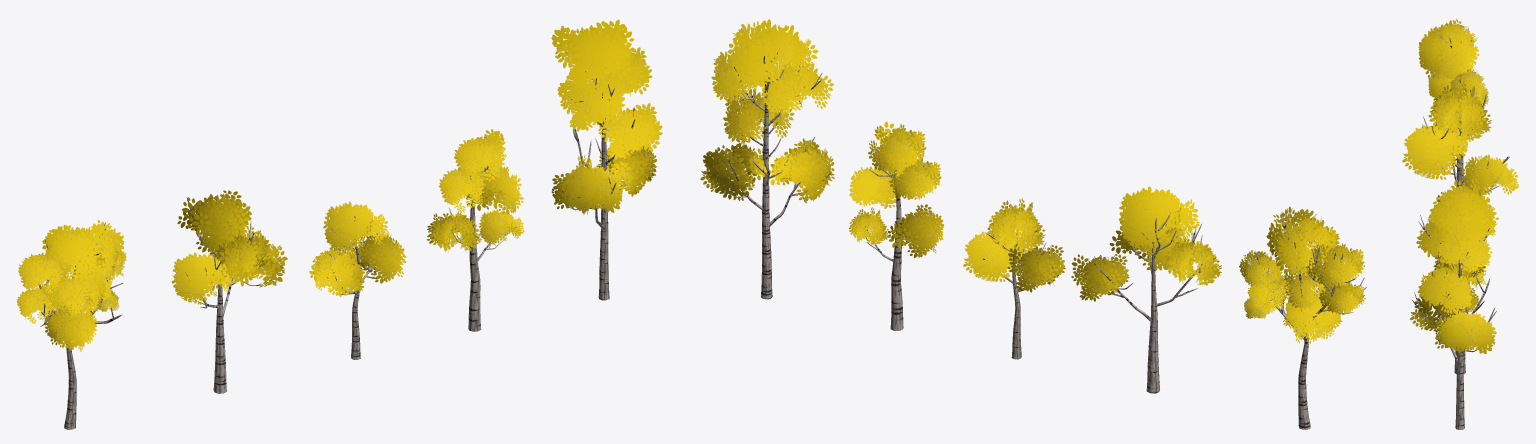
File: tree-birch.glb
3 views of the same model, side by side, from view 1: azimuth 30°, elevation 25°; view 2: azimuth 150°, elevation 25°; view 3: azimuth 270°, elevation 25° (orthographic). The views are drawn at different scales.
Parts seen in each view (by area): view 1: BirchTree_2, BirchTree_3, BirchTree_5, BirchTree_1, BirchTree_4; view 2: BirchTree_2, BirchTree_3, BirchTree_5, BirchTree_1, BirchTree_4; view 3: BirchTree_2, BirchTree_5, BirchTree_3, BirchTree_1.
Boxes of the visible parts, bbox=[...] form: BirchTree_2: bbox=[551, 19, 662, 300]; BirchTree_3: bbox=[17, 220, 126, 429]; BirchTree_5: bbox=[171, 190, 287, 393]; BirchTree_1: bbox=[427, 129, 524, 331]; BirchTree_4: bbox=[309, 201, 406, 359]; BirchTree_2: bbox=[700, 19, 834, 299]; BirchTree_3: bbox=[1239, 206, 1366, 429]; BirchTree_5: bbox=[1071, 186, 1221, 393]; BirchTree_1: bbox=[848, 121, 943, 330]; BirchTree_4: bbox=[963, 198, 1065, 359]; BirchTree_2: bbox=[1410, 178, 1498, 429]; BirchTree_5: bbox=[1402, 81, 1518, 196]; BirchTree_3: bbox=[1418, 19, 1488, 190]; BirchTree_1: bbox=[1425, 201, 1486, 374].
Bounding box in the file's own units: 18.56 × 7.57 × 3.51.
Materials: 2 (2 with a texture image).
